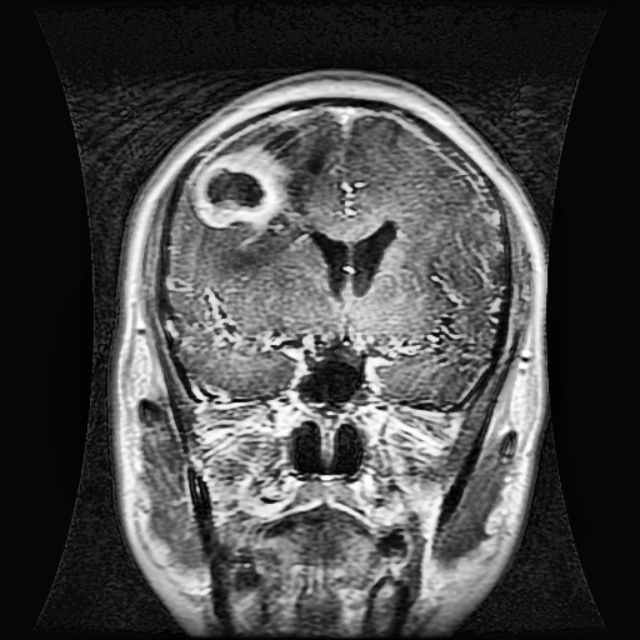Meningioma: (184, 123, 309, 238)
